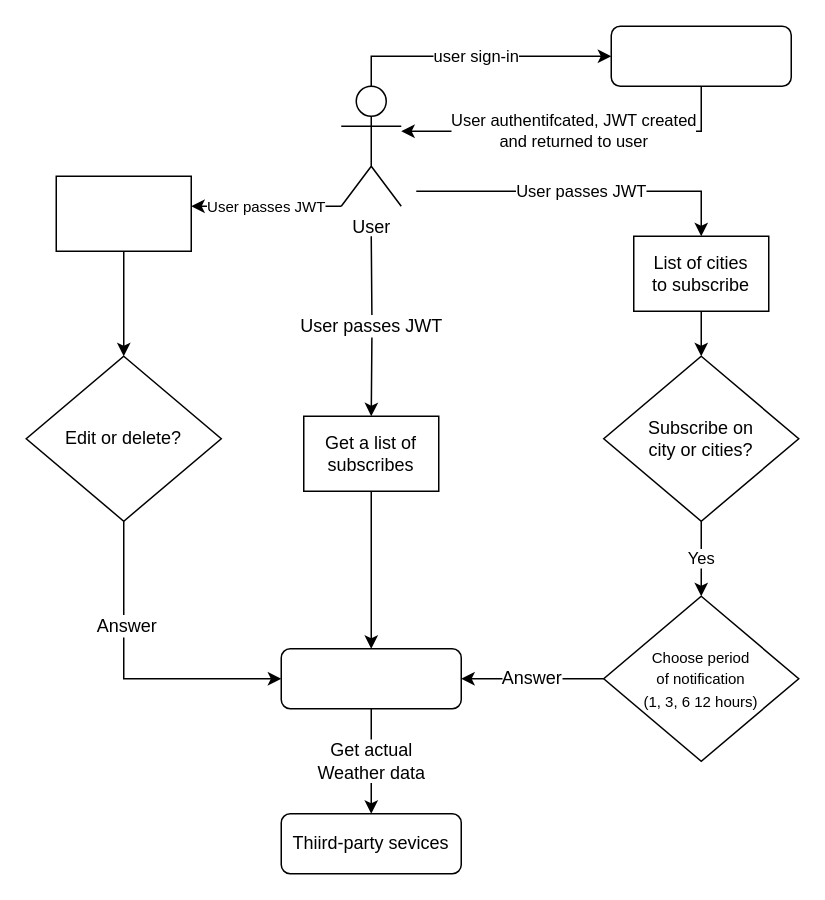
This 825x900 diagram has some shape labels left out. Here are the shapes that lost their labels. From the top down, the centre of each, then its label:
[700,55]: Authentification server
[123,213]: Edit paramaters of subscirbes or delete
[370,678]: Application server
